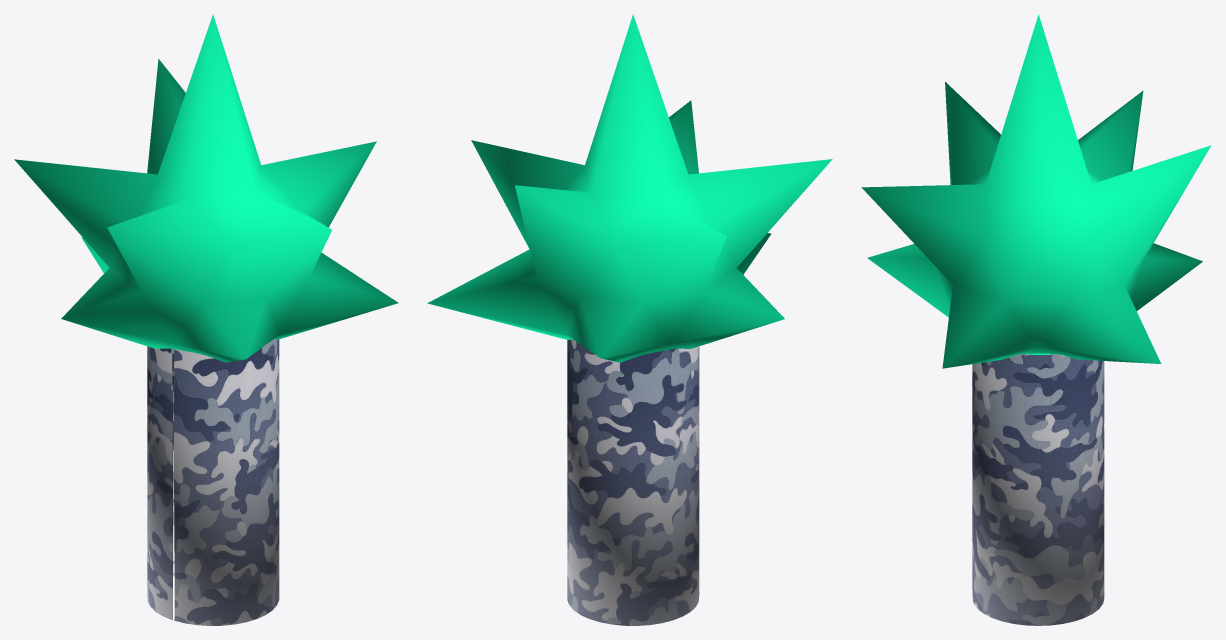
The model's file is tower 1_3.fbx.
The picture shows the model from 3 angles, left to right: view 1: azimuth 30°, elevation 25°; view 2: azimuth 150°, elevation 25°; view 3: azimuth 270°, elevation 25°; orthographic projection.
Visible parts, largest first — view 1: Icosphere; view 2: Icosphere; view 3: Icosphere.
Boxes of the visible parts, bbox=[...] form: Icosphere: bbox=[14, 14, 398, 625]; Icosphere: bbox=[427, 14, 832, 625]; Icosphere: bbox=[861, 14, 1211, 625].
Bounding box in the file's own units: 5.52 × 9.75 × 5.3.
